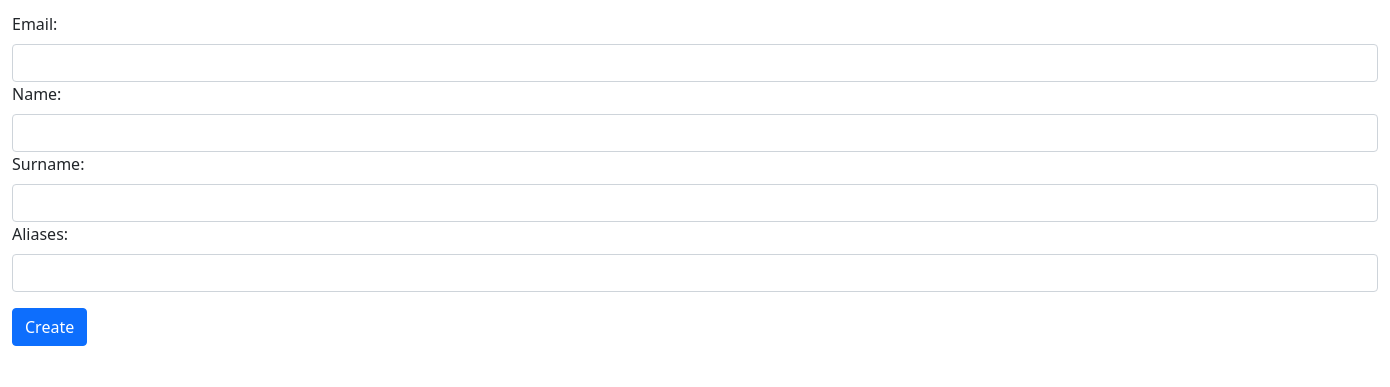
Test: AppEmailAdd › submit email no name
Step 1. Click the button "Create" → (50, 327), box [12,308,87,346]
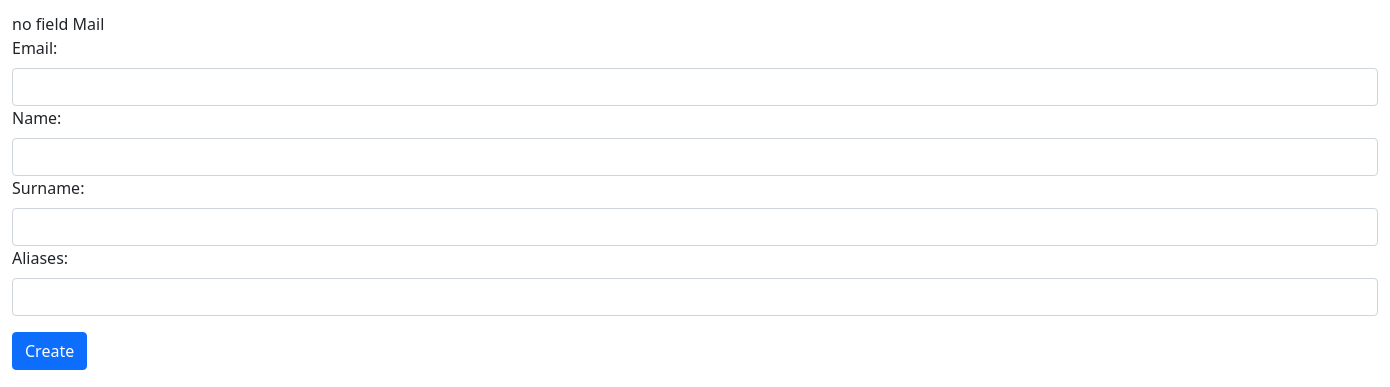
Check: the text with test id "email-add-message" reads "no field Mail", box [12,13,104,35]
Step 2. Type "test-aa" into the field with test id "email-add-mail" → (695, 87), box [12,68,1378,106]
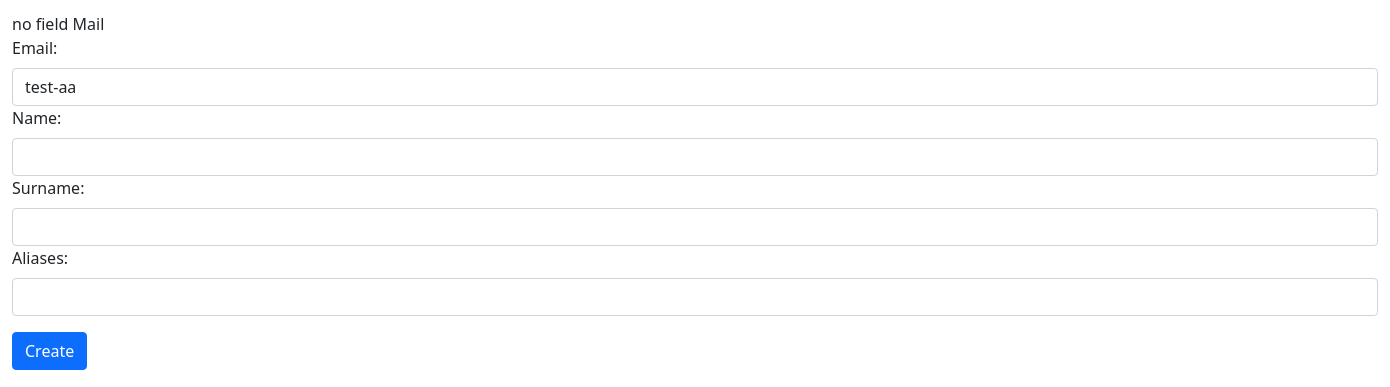
Step 3. Click the button "Create" → (50, 351), box [12,332,87,370]
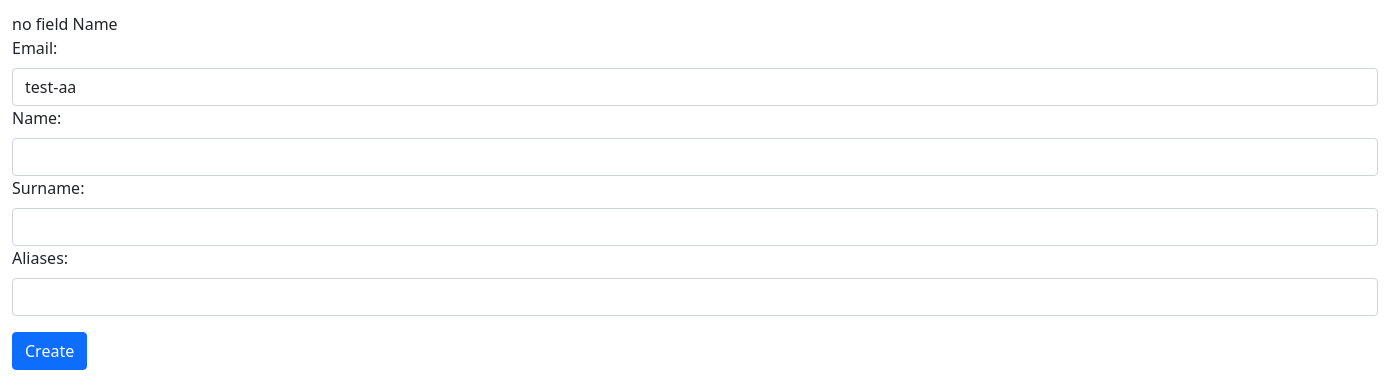
Check: the text with test id "email-add-message" reads "no field Name", box [12,13,118,35]
Step 4. Type "test-aa" into the field with test id "email-add-cn" → (695, 157), box [12,138,1378,176]
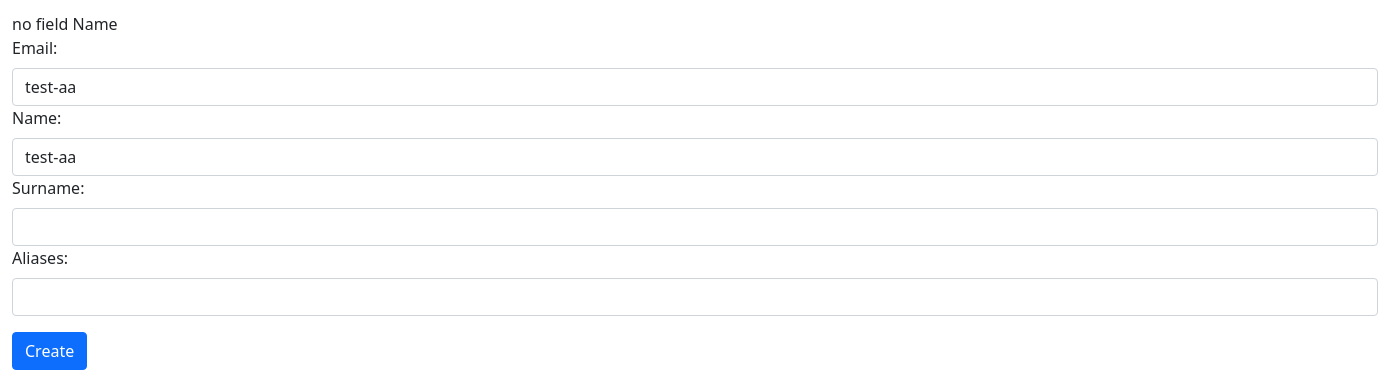
Step 5. Click the button "Create" → (50, 351), box [12,332,87,370]
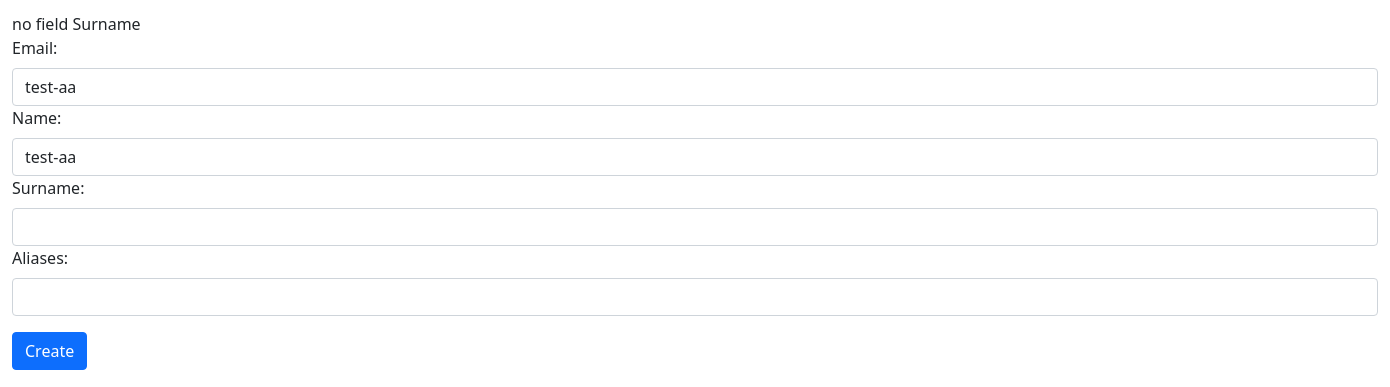
Check: the text with test id "email-add-message" reads "no field Surname", box [12,13,141,35]
